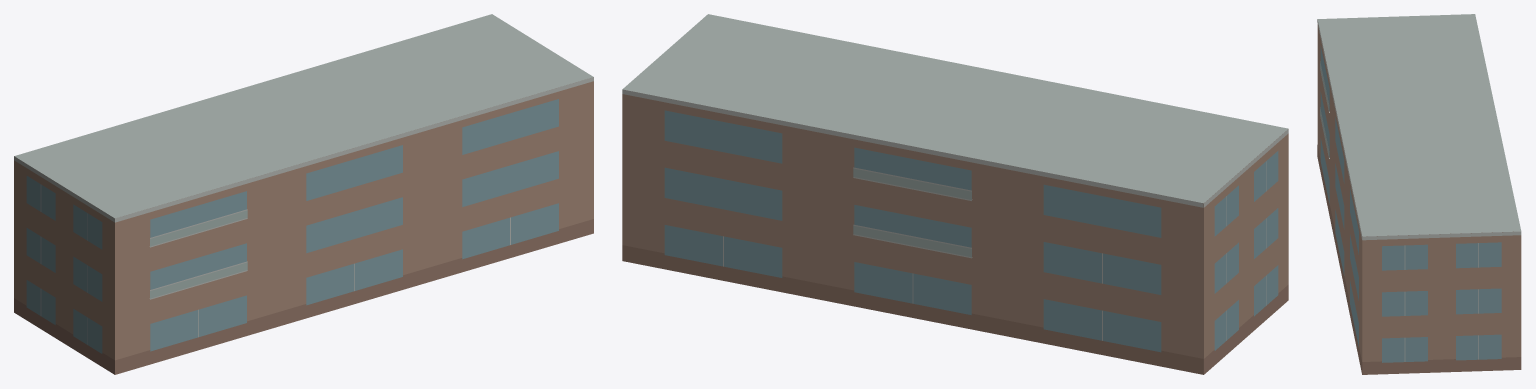
File: survey-upis-32966565.glb
The picture shows the model from 3 angles, left to right: view 1: azimuth 30°, elevation 25°; view 2: azimuth 150°, elevation 25°; view 3: azimuth 270°, elevation 25°; orthographic projection. The views are drawn at different scales.
Visible parts, largest first — view 1: survey-upis-32966565.tmp; view 2: survey-upis-32966565.tmp; view 3: survey-upis-32966565.tmp.
Part boxes in pixels (box(x1,y1,x2,y2)): survey-upis-32966565.tmp: box(14, 14, 593, 374); survey-upis-32966565.tmp: box(622, 14, 1288, 374); survey-upis-32966565.tmp: box(1317, 14, 1521, 374).
Size of the model in its own units: 31.59 by 9.15 by 12.23.
